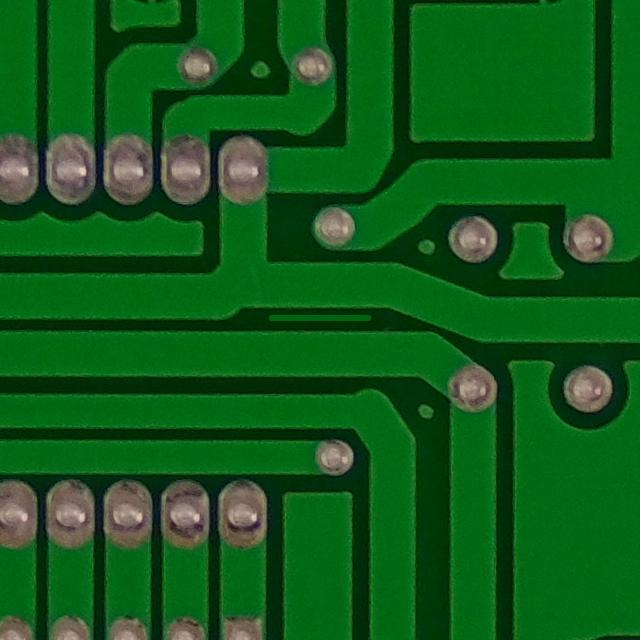spurious_copper: (259, 303, 381, 337)
